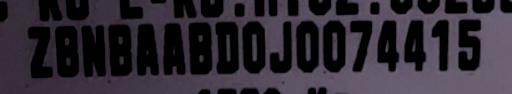letter: (184, 21, 216, 75), (400, 14, 428, 74), (24, 24, 54, 80), (320, 17, 348, 73), (160, 20, 188, 76), (52, 23, 80, 79), (240, 20, 268, 74), (266, 20, 294, 74), (79, 22, 107, 76), (374, 15, 400, 71), (456, 15, 482, 71), (294, 18, 320, 74), (348, 18, 374, 72), (214, 20, 240, 74), (134, 22, 160, 74), (106, 24, 132, 76), (430, 17, 450, 71)
